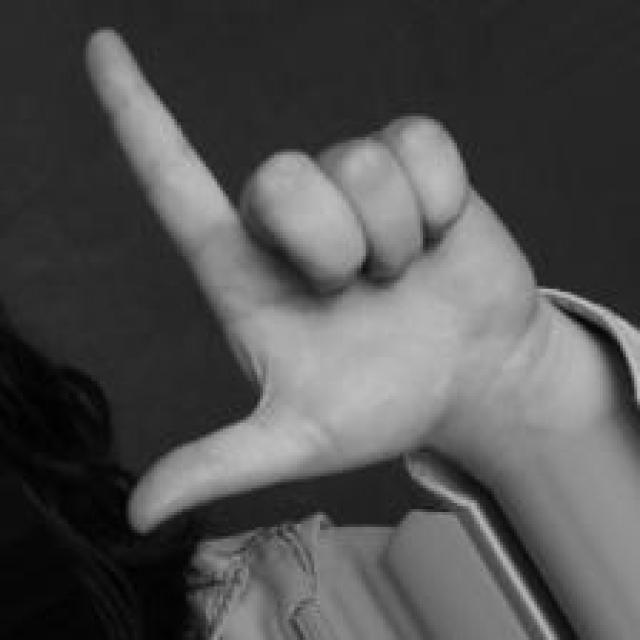L: (72, 27, 536, 534)
